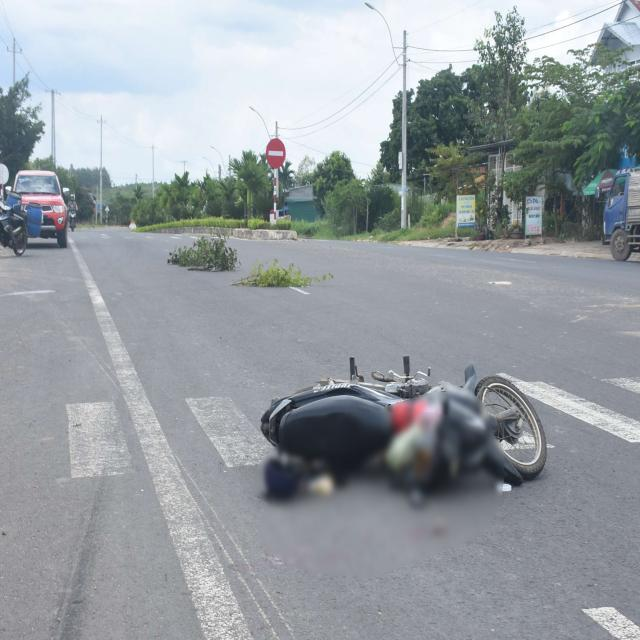multiple_accident: (248, 340, 549, 526)
